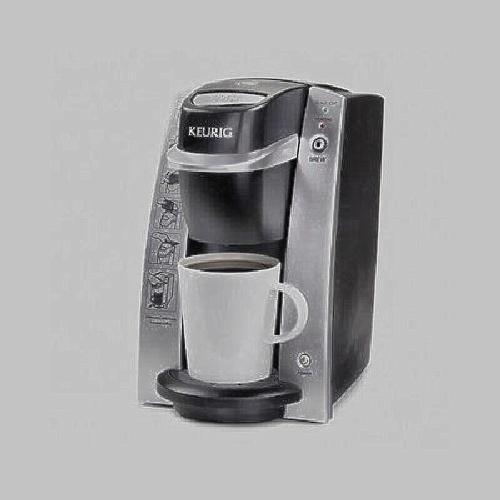coffee_maker: (148, 88, 376, 436)
